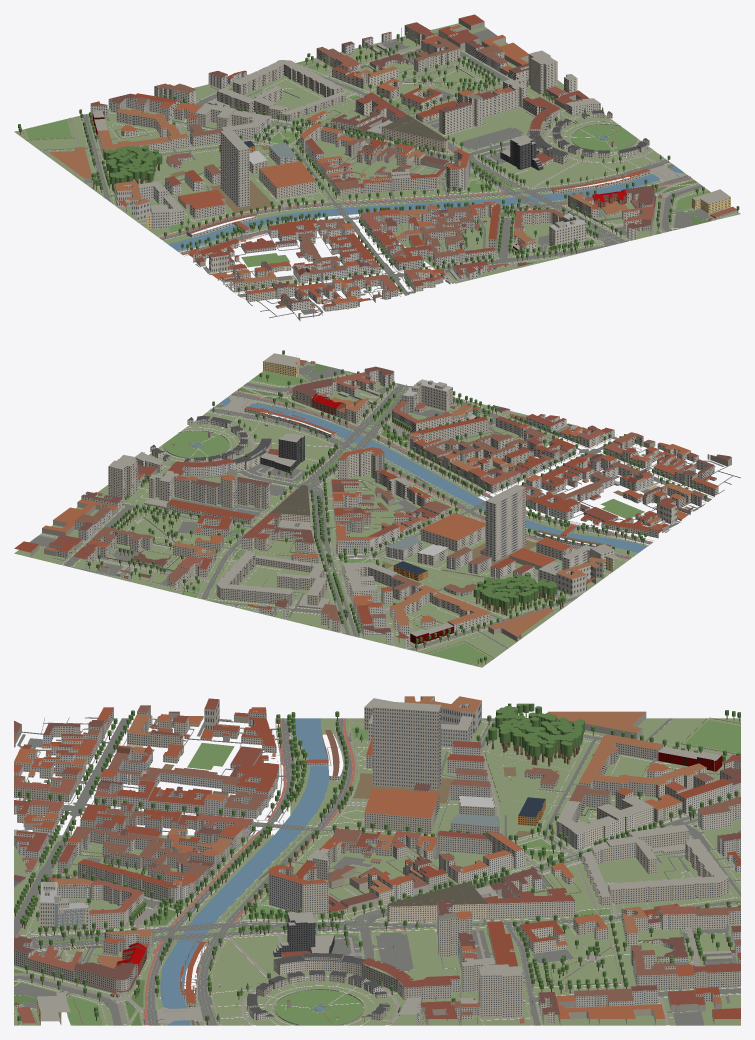
3 renders of one model, top to bottom at view 1: azimuth 30°, elevation 25°; view 2: azimuth 150°, elevation 25°; view 3: azimuth 270°, elevation 25°, orthographic. The views are drawn at different scales.
Bounding box in the file's own units: 751 × 89.12 × 751.
3 materials, 1 textured.
